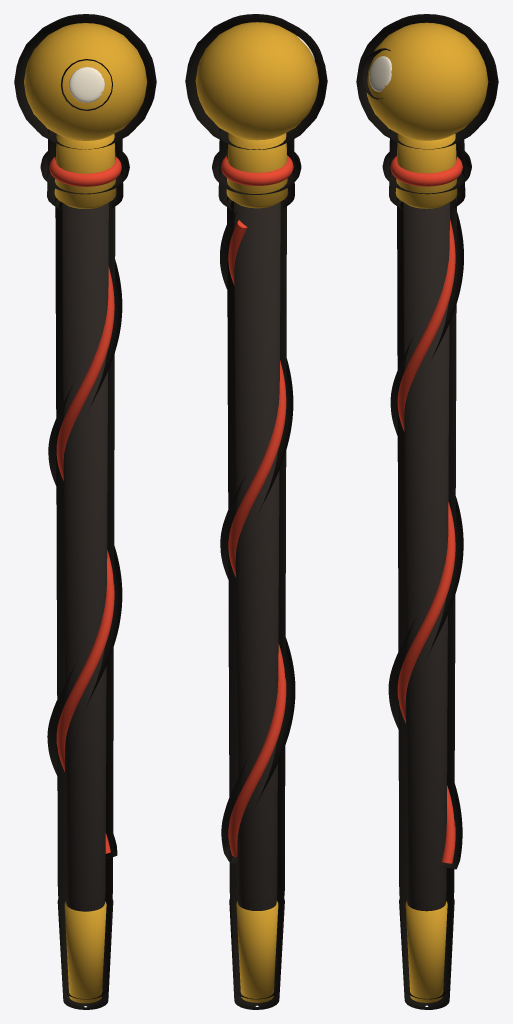
The model's file is cane.glb.
3 renders of one model, left to right at view 1: azimuth 30°, elevation 25°; view 2: azimuth 150°, elevation 25°; view 3: azimuth 330°, elevation 25°, orthographic.
Visible parts, largest first — view 1: Cane, Cane_outline; view 2: Cane, Cane_outline; view 3: Cane, Cane_outline.
Boxes of the visible parts, x1=… form: Cane: x1=24, y1=23, x2=147, y2=1003; Cane_outline: x1=14, y1=14, x2=156, y2=1009; Cane: x1=195, y1=22, x2=318, y2=1002; Cane_outline: x1=185, y1=14, x2=327, y2=1009; Cane: x1=366, y1=22, x2=488, y2=1002; Cane_outline: x1=356, y1=14, x2=498, y2=1009.
Size of the model in its own units: 0.3937 by 3 by 0.3885.
